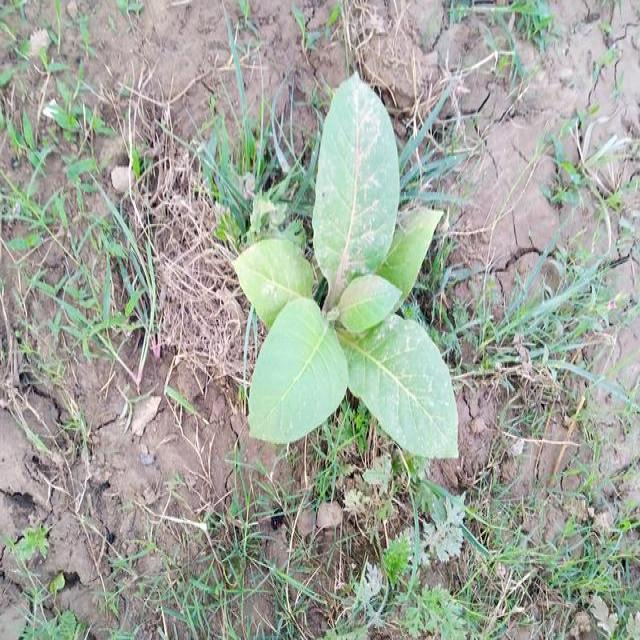crop: (232, 87, 458, 450)
